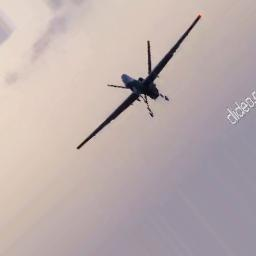wingloong: (76, 43, 185, 156)
